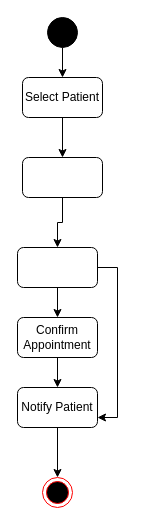
The diagram is 143 pixels wide and 525 high, and some of its shapes have lost their labels. The centre of each missing label's shape, as x and y in pixels:
"Check Doctor Availability" goes at (x=57, y=267).
"Choose Date And Time" goes at (x=62, y=177).
